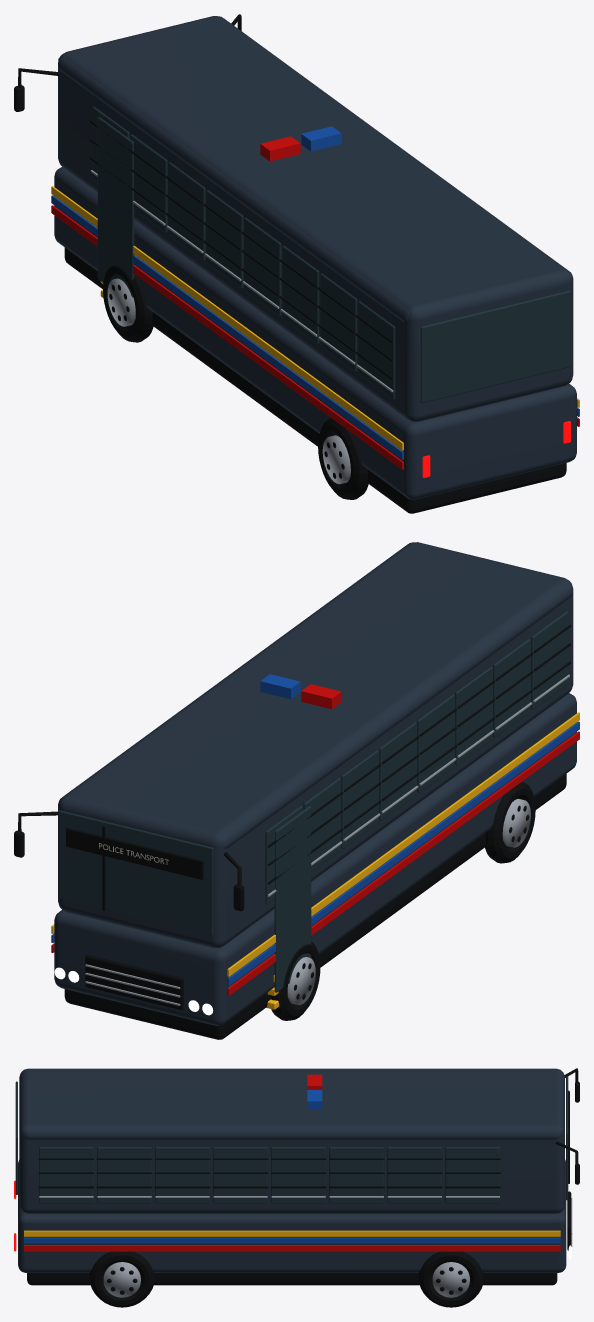
Rendered from police-transport.glb.
3 renders of one model, top to bottom at view 1: azimuth 30°, elevation 25°; view 2: azimuth 150°, elevation 25°; view 3: azimuth 270°, elevation 25°, orthographic. The views are drawn at different scales.
Parts seen in each view (by area): view 1: Surface_Paint, Surface_Bus_glass, Surface_Bus_rubber, Surface_Yellow_livery, Surface_Blue_livery, Surface_Red_livery, Bus_tire, Bus_tire.001, Bus_rim, Surface_Bus_alloy, Bus_rim.001, beacon_red (+1 smaller); view 2: Surface_Paint, Surface_Bus_glass, Surface_Bus_rubber, Surface_Yellow_livery, Surface_Blue_livery, Surface_Red_livery, Bus_tire, Surface_Bus_alloy, Bus_tire.001, Bus_rim, Bus_rim.001, beacon_red (+1 smaller); view 3: Surface_Paint, Surface_Bus_glass, Surface_Bus_rubber, Surface_Yellow_livery, Surface_Blue_livery, Surface_Red_livery, Bus_tire.002, Bus_tire.003, Bus_rim.002, Bus_rim.003, Surface_Bus_alloy, beacon_blue.
Boxes of the visible parts, x1=… form: Surface_Paint: x1=54, y1=16, x2=576, y2=499; Surface_Bus_glass: x1=58, y1=58, x2=570, y2=403; Surface_Bus_rubber: x1=14, y1=14, x2=566, y2=513; Surface_Yellow_livery: x1=51, y1=186, x2=579, y2=450; Surface_Blue_livery: x1=51, y1=195, x2=579, y2=459; Surface_Red_livery: x1=51, y1=205, x2=579, y2=469; Bus_tire: x1=318, y1=418, x2=368, y2=499; Bus_tire.001: x1=103, y1=266, x2=153, y2=342; Bus_rim: x1=322, y1=435, x2=350, y2=484; Surface_Bus_alloy: x1=90, y1=170, x2=393, y2=392; Bus_rim.001: x1=107, y1=278, x2=135, y2=326; beacon_red: x1=260, y1=136, x2=300, y2=161; Surface_Paint: x1=54, y1=542, x2=576, y2=1025; Surface_Bus_glass: x1=58, y1=611, x2=568, y2=992; Surface_Bus_rubber: x1=14, y1=625, x2=571, y2=1039; Surface_Yellow_livery: x1=51, y1=712, x2=579, y2=1009; Surface_Blue_livery: x1=51, y1=721, x2=579, y2=985; Surface_Red_livery: x1=51, y1=731, x2=579, y2=995; Bus_tire: x1=485, y1=782, x2=535, y2=863; Surface_Bus_alloy: x1=85, y1=674, x2=569, y2=1005; Bus_tire.001: x1=270, y1=941, x2=320, y2=1020; Bus_rim: x1=502, y1=798, x2=530, y2=847; Bus_rim.001: x1=287, y1=957, x2=315, y2=1004; beacon_red: x1=301, y1=684, x2=341, y2=709; Surface_Paint: x1=18, y1=1068, x2=566, y2=1272; Surface_Bus_glass: x1=15, y1=1076, x2=568, y2=1203; Surface_Bus_rubber: x1=27, y1=1068, x2=579, y2=1285; Surface_Yellow_livery: x1=24, y1=1230, x2=560, y2=1236; Surface_Blue_livery: x1=24, y1=1237, x2=560, y2=1243; Surface_Red_livery: x1=24, y1=1245, x2=560, y2=1251; Bus_tire.002: x1=89, y1=1251, x2=154, y2=1307; Bus_tire.003: x1=418, y1=1251, x2=483, y2=1307; Bus_rim.002: x1=103, y1=1262, x2=140, y2=1297; Bus_rim.003: x1=432, y1=1262, x2=469, y2=1297; Surface_Bus_alloy: x1=39, y1=1196, x2=572, y2=1246; beacon_blue: x1=307, y1=1090, x2=322, y2=1109.
Bounding box in the file's own units: 3.14 × 3.22 × 8.77.
